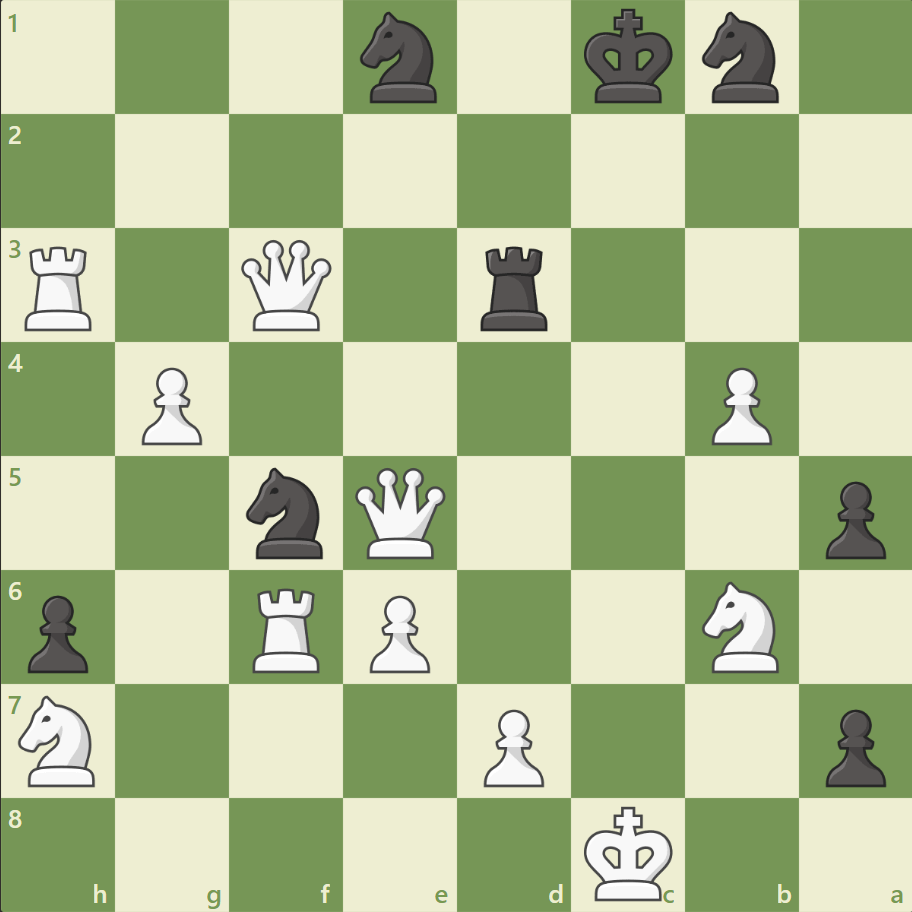K: (579, 798, 679, 906)
N: (11, 688, 108, 791), (692, 575, 789, 677)
P: (474, 700, 549, 791), (701, 359, 776, 450), (133, 359, 208, 450), (361, 586, 435, 677)
Q: (351, 463, 450, 562), (237, 236, 336, 335)
R: (246, 579, 329, 676), (19, 239, 102, 336)
k: (579, 4, 679, 112)
n: (351, 7, 449, 110), (238, 461, 335, 564), (692, 7, 789, 110)
p: (20, 586, 95, 677), (815, 700, 889, 791), (815, 473, 889, 564)
r: (473, 239, 556, 336)
